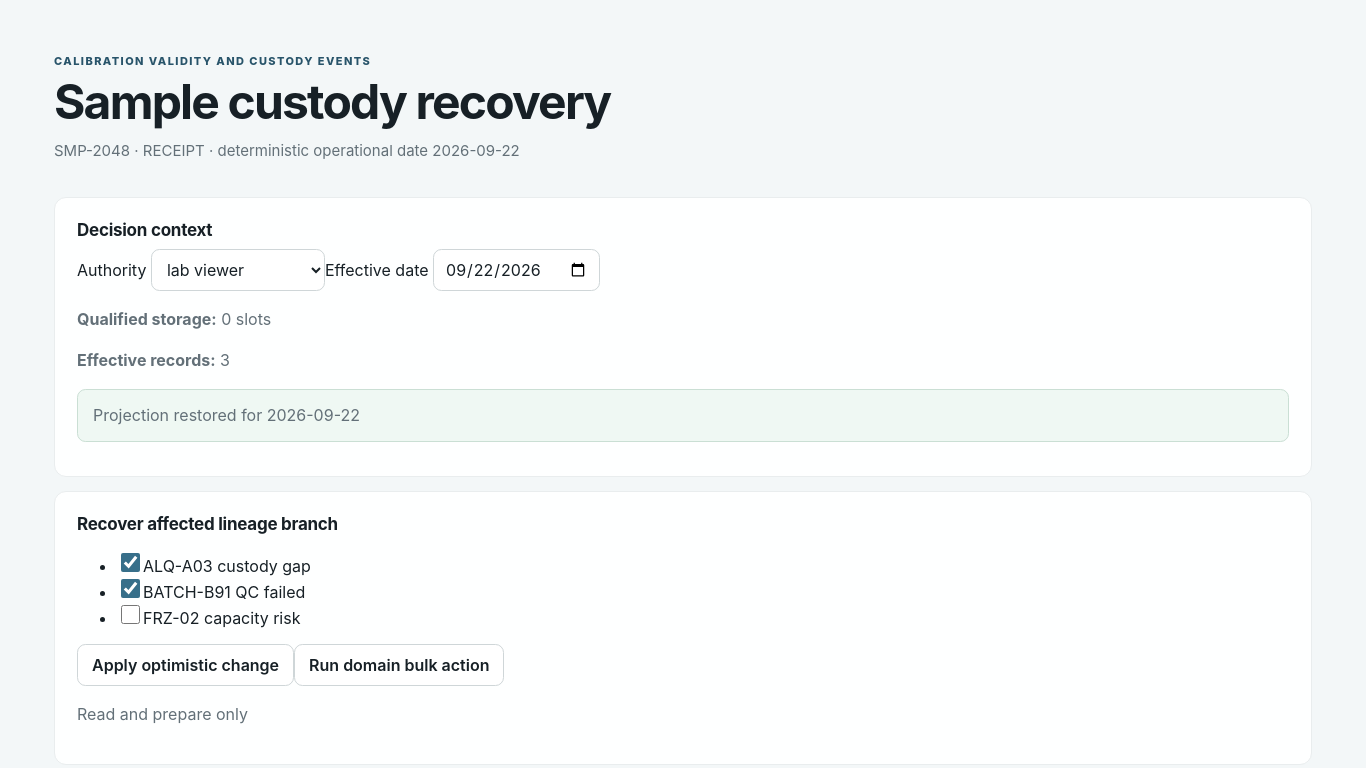
Sample custody recovery › shows permission behavior and partial recovery in the UI
The width and height of the screenshot is (1366, 768).
Select "result authorizer" in the dropdown labelled "Authority" at (238, 270), box [151,249,325,291]
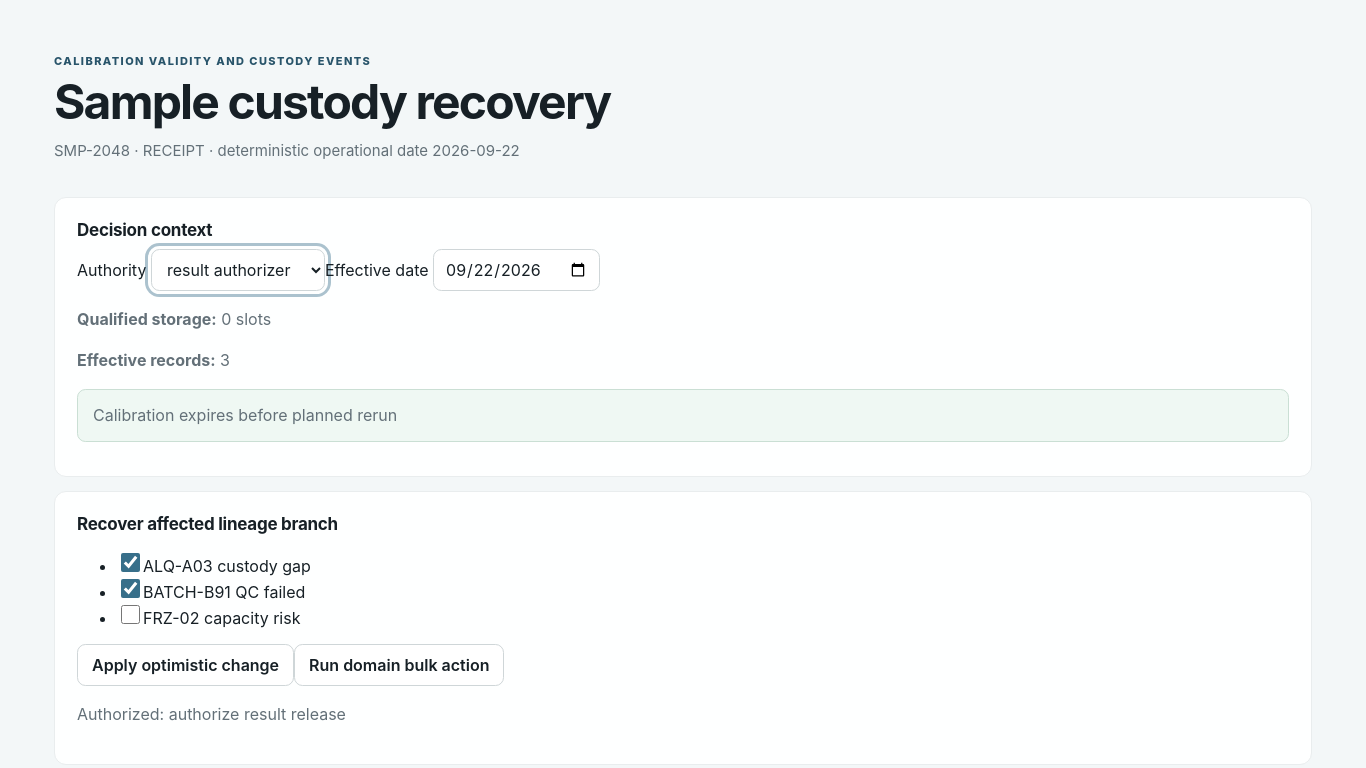
Click the button "Run domain bulk action" at (399, 665), box [294,644,504,686]
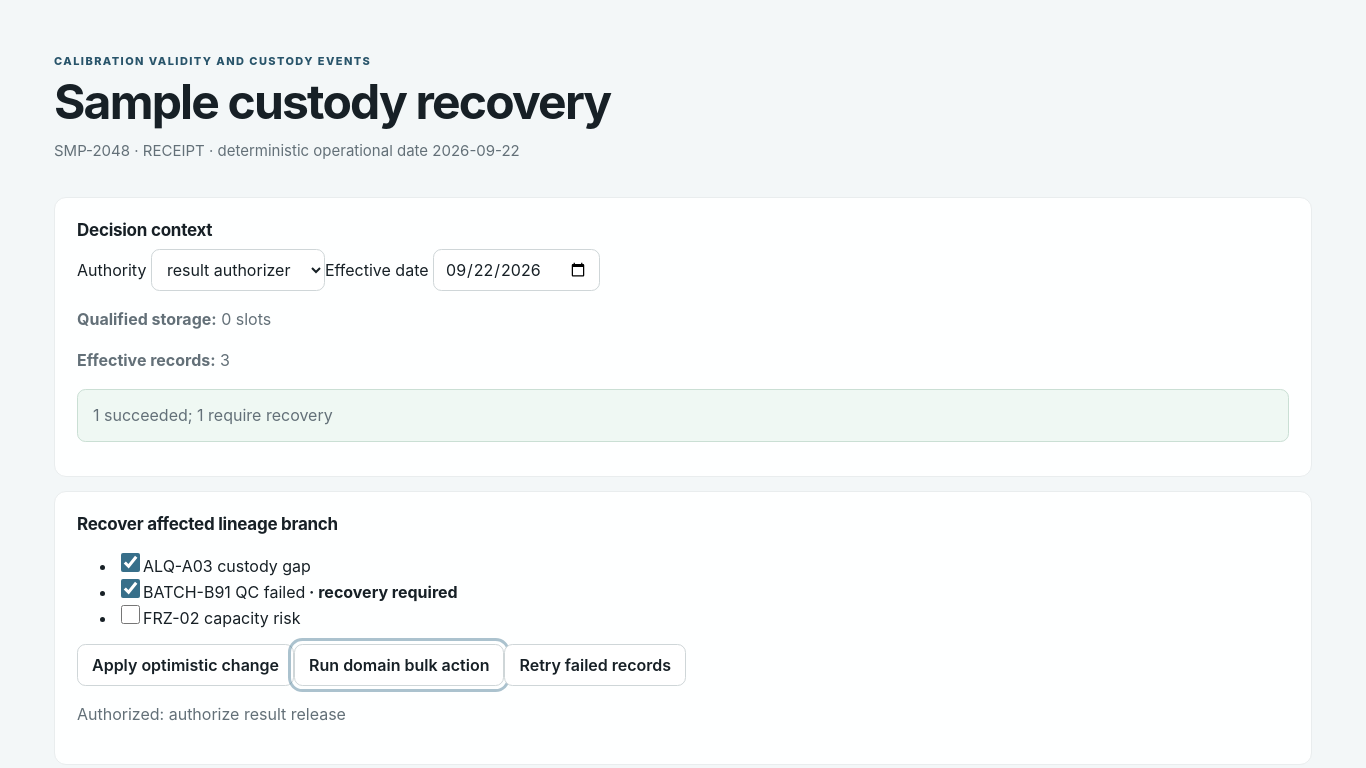
expect the message reads "1 succeeded; 1 require recovery": met, box [93,405,333,425]
expect the text "· recovery required" is shown: met, box [305,582,458,602]
expect the button "Retry failed records" is shown: met, box [504,644,686,686]
